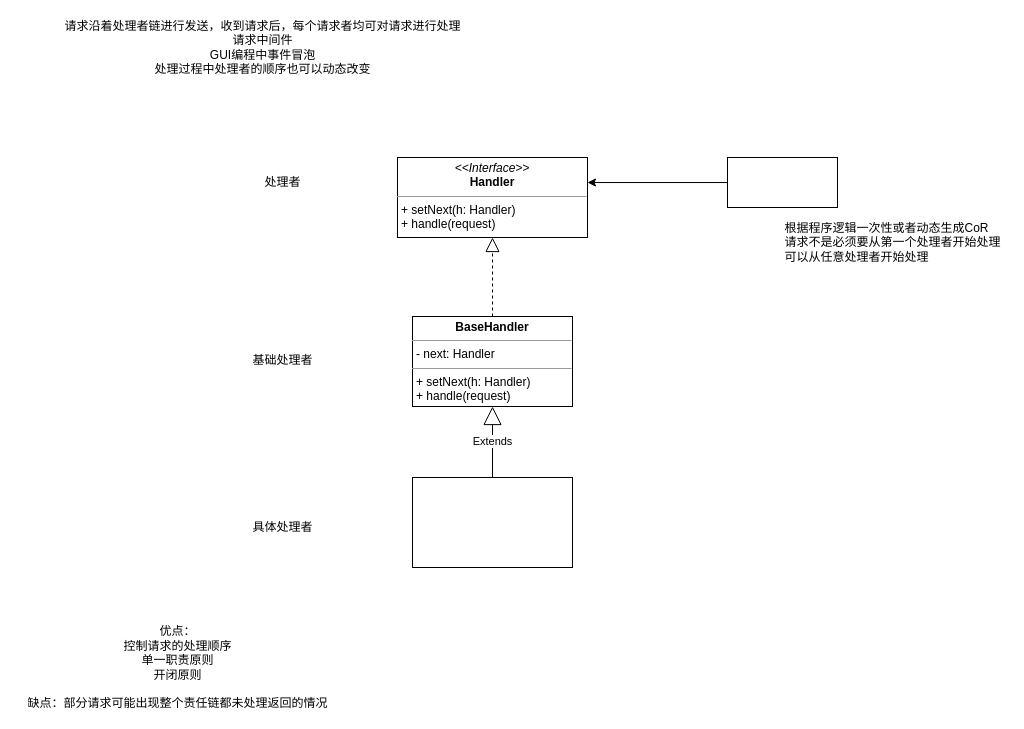
The diagram is 1024 pixels wide and 729 high, and some of its shapes have lost their labels. The shapes that lost their labels are listed below. From the top down, each one's centre as x and y in pixels, then its label:
At point (782, 182): "Client".
At point (492, 522): "ConcreteHandler ... + handle(request)".
